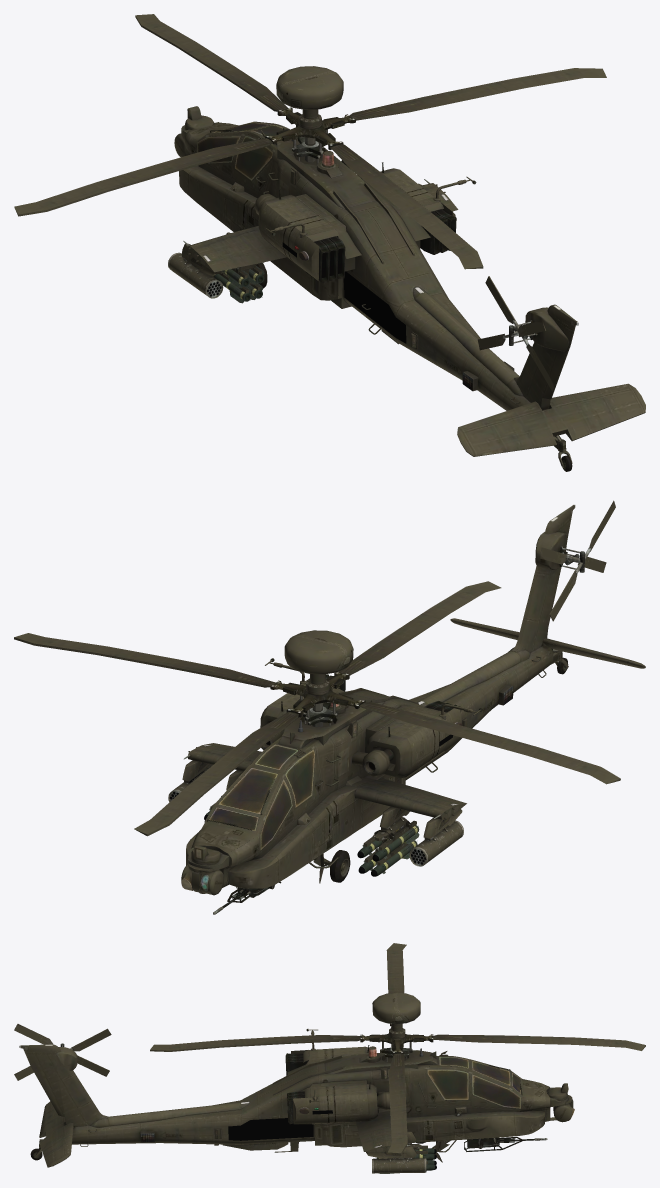
Rendered from type_ah64e.glb.
3 renders of one model, top to bottom at view 1: azimuth 30°, elevation 25°; view 2: azimuth 150°, elevation 25°; view 3: azimuth 270°, elevation 25°, orthographic. The views are drawn at different scales.
Parts seen in each view (by area): view 1: Object_8, Object_7, Object_3, Object_2, Object_6; view 2: Object_8, Object_7, Object_3, Object_6; view 3: Object_8, Object_7, Object_3, Object_2.
Part boxes in pixels (x1,y1,x2,y2): Object_8: [14, 14, 645, 471]; Object_7: [168, 66, 452, 298]; Object_3: [197, 122, 456, 260]; Object_2: [282, 242, 406, 343]; Object_6: [213, 266, 264, 303]; Object_8: [14, 500, 645, 914]; Object_7: [168, 630, 463, 866]; Object_3: [209, 722, 462, 849]; Object_6: [205, 808, 419, 876]; Object_8: [14, 943, 645, 1167]; Object_7: [366, 992, 472, 1173]; Object_3: [299, 1057, 520, 1114]; Object_2: [228, 1110, 332, 1140].
Size of the model in its own units: 13.72 by 4.79 by 17.52.
6 materials, 6 textured.
